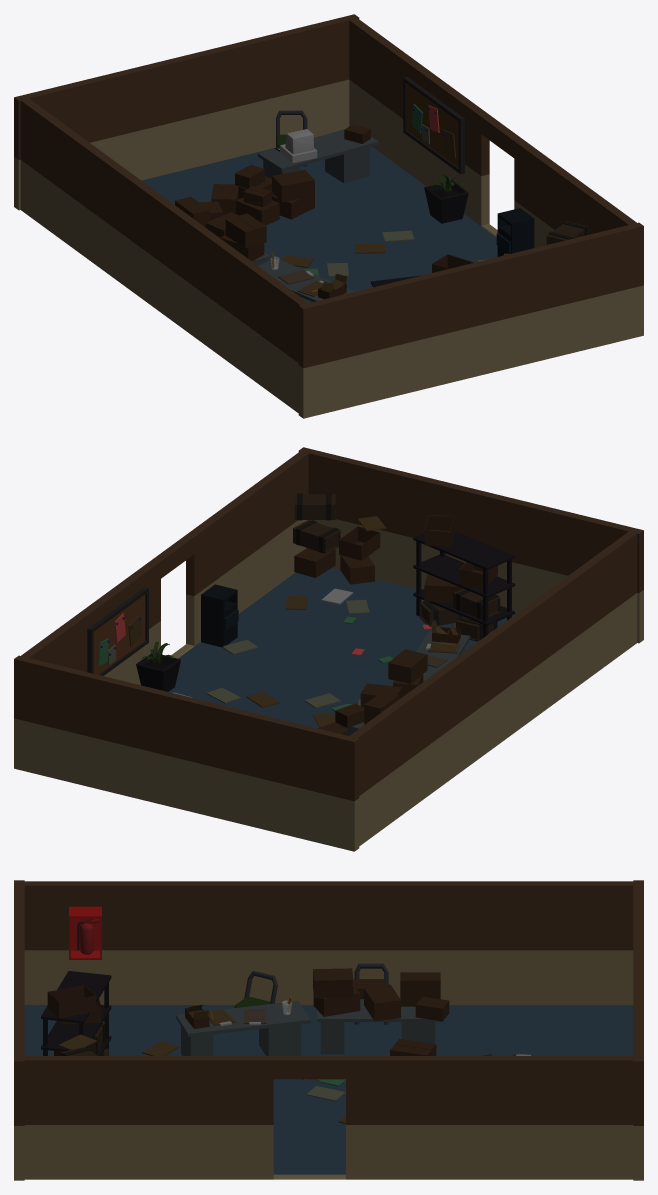
The model's file is office.FBX.
3 views of the same model, one above another, from view 1: azimuth 30°, elevation 25°; view 2: azimuth 150°, elevation 25°; view 3: azimuth 270°, elevation 25° (orthographic). The views are drawn at different scales.
Parts seen in each view (by area): view 1: pCube2, pCube4, pCube3, pPlane1, pCube1, pCube189 (×5), pCube7 (×2), polySurface6, polySurface5, polySurface4, pCube5, pCube21 (+1 smaller); view 2: pCube3, pCube4, pPlane1, pCube2, pCube1, pCube205 (×4), polySurface6, pCube19, pCube189 (×2), pCube20, polySurface5, pCube21 (+9 smaller); view 3: pCube1, pCube4, pPlane1, pCube189 (×5), pCube2, pCube3, pCube7 (×2), pCube5 (×2), pCube6 (×2), pCube212, pCube211, pCube19 (+1 smaller).
Boxes of the visible parts, left/top/right/bottom form: pCube2: left=298, top=222, right=643, bottom=418; pCube4: left=18, top=96, right=308, bottom=412; pCube3: left=14, top=14, right=359, bottom=210; pPlane1: left=141, top=146, right=497, bottom=302; pCube1: left=346, top=16, right=639, bottom=247; pCube189 (×5): left=175, top=175, right=314, bottom=248; pCube7 (×2): left=258, top=129, right=378, bottom=301; polySurface6: left=406, top=84, right=458, bottom=167; polySurface5: left=403, top=77, right=464, bottom=174; polySurface4: left=424, top=180, right=468, bottom=223; pCube5: left=325, top=147, right=369, bottom=183; pCube21: left=497, top=224, right=534, bottom=256; pCube3: left=14, top=655, right=359, bottom=851; pCube4: left=347, top=531, right=637, bottom=845; pPlane1: left=168, top=568, right=516, bottom=728; pCube2: left=298, top=447, right=643, bottom=643; pCube1: left=18, top=449, right=311, bottom=685; pCube205 (×4): left=293, top=494, right=500, bottom=626; polySurface6: left=93, top=594, right=145, bottom=674; pCube19: left=413, top=531, right=515, bottom=570; pCube189 (×2): left=364, top=652, right=427, bottom=724; pCube20: left=413, top=554, right=515, bottom=598; polySurface5: left=87, top=587, right=148, bottom=675; pCube21: left=201, top=601, right=237, bottom=647; pCube1: left=17, top=1056, right=640, bottom=1179; pCube4: left=24, top=881, right=640, bottom=1004; pPlane1: left=24, top=1005, right=633, bottom=1174; pCube189 (×5): left=313, top=968, right=449, bottom=1021; pCube2: left=14, top=880, right=24, bottom=1180; pCube3: left=633, top=880, right=643, bottom=1180; pCube7 (×2): left=176, top=999, right=443, bottom=1036; pCube5 (×2): left=259, top=1022, right=435, bottom=1055; pCube6 (×2): left=181, top=1022, right=344, bottom=1055; pCube212: left=69, top=906, right=101, bottom=959; pCube211: left=47, top=985, right=95, bottom=1018; pCube19: left=41, top=971, right=111, bottom=1023.
Size of the model in its own units: 8.29 by 12.2 by 2.62.
